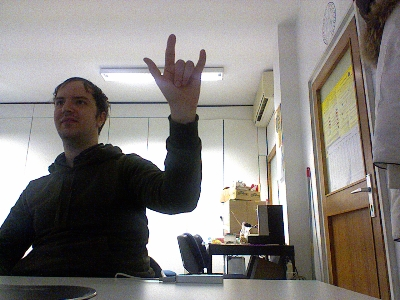我爱你: (141, 32, 207, 109)
